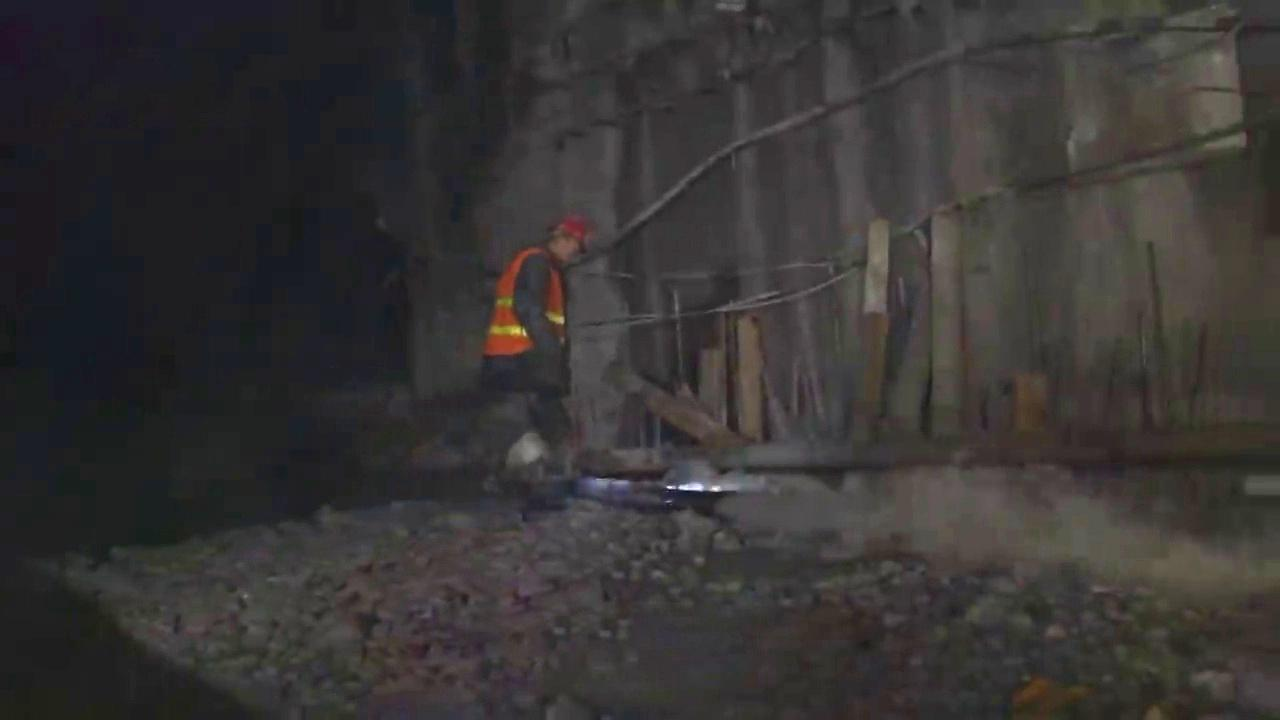helmet: (542, 210, 597, 272)
